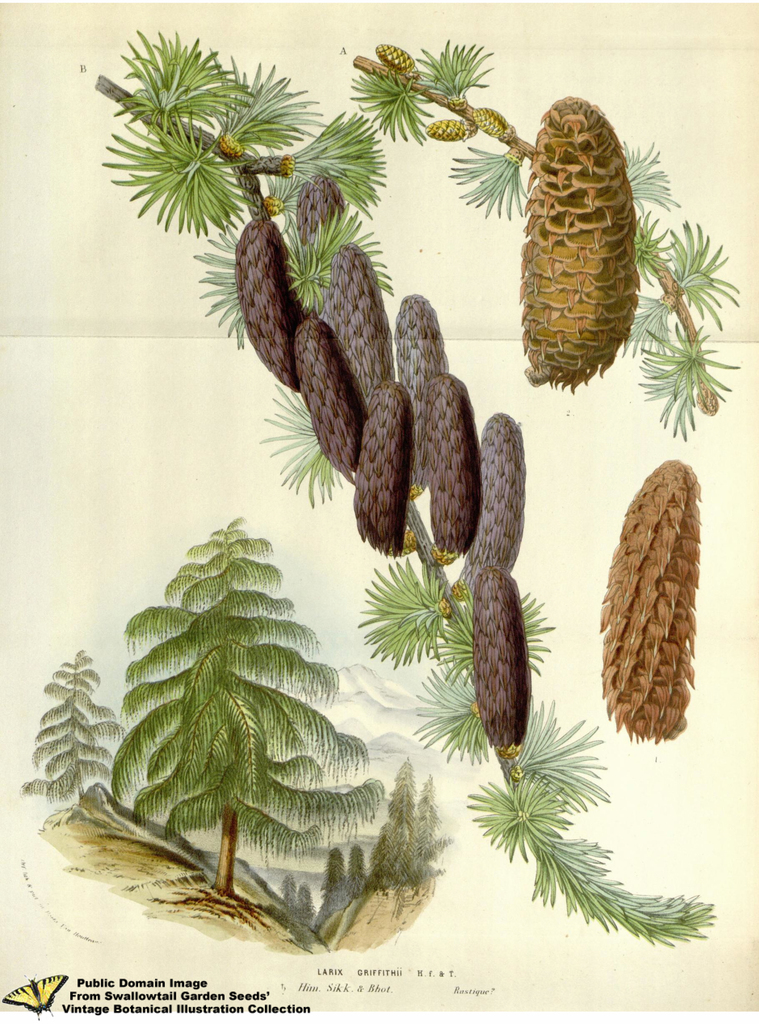Tree: (19, 516, 456, 924), (111, 517, 391, 910)
